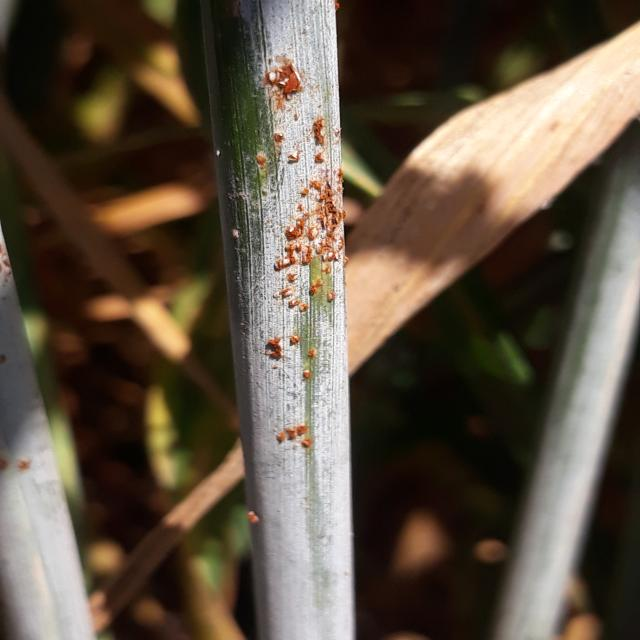black_stem_rust: (166, 0, 416, 640), (0, 223, 62, 640)
